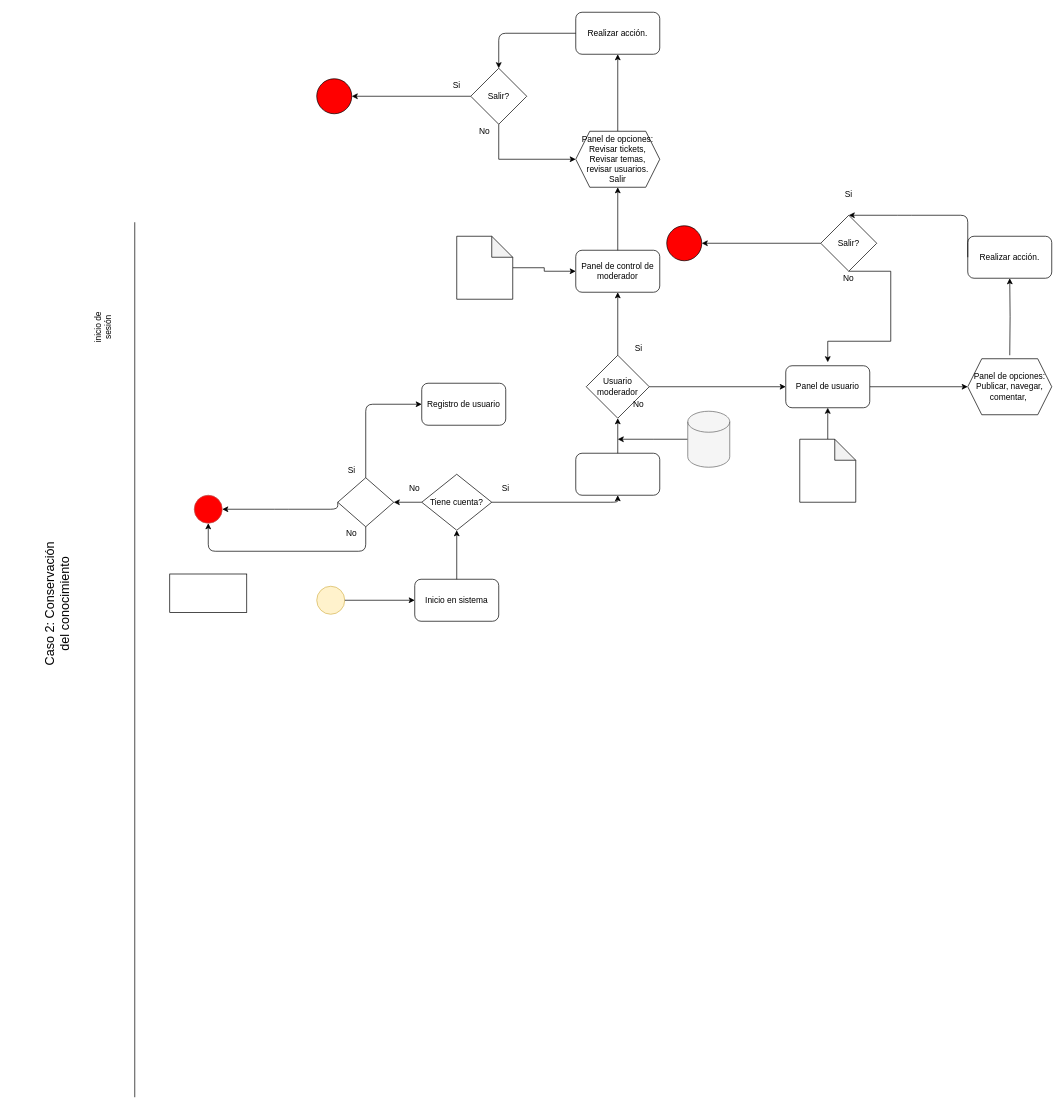
Image size: 1064x1110. Some labels were removed from this diagram. Here are the shapes that lost their labels. From the top down, the centre of each, then its label:
At (484,267): "Datos de usuarios, temas, tickets".
At (708,439): "Servidor".
At (617,474): "Iniciar sesión".
At (827,470): "Datos de usuario, publicaciones".
At (365,502): "Ocupa registro?".
At (208,592): "Inicio de sesión.".
